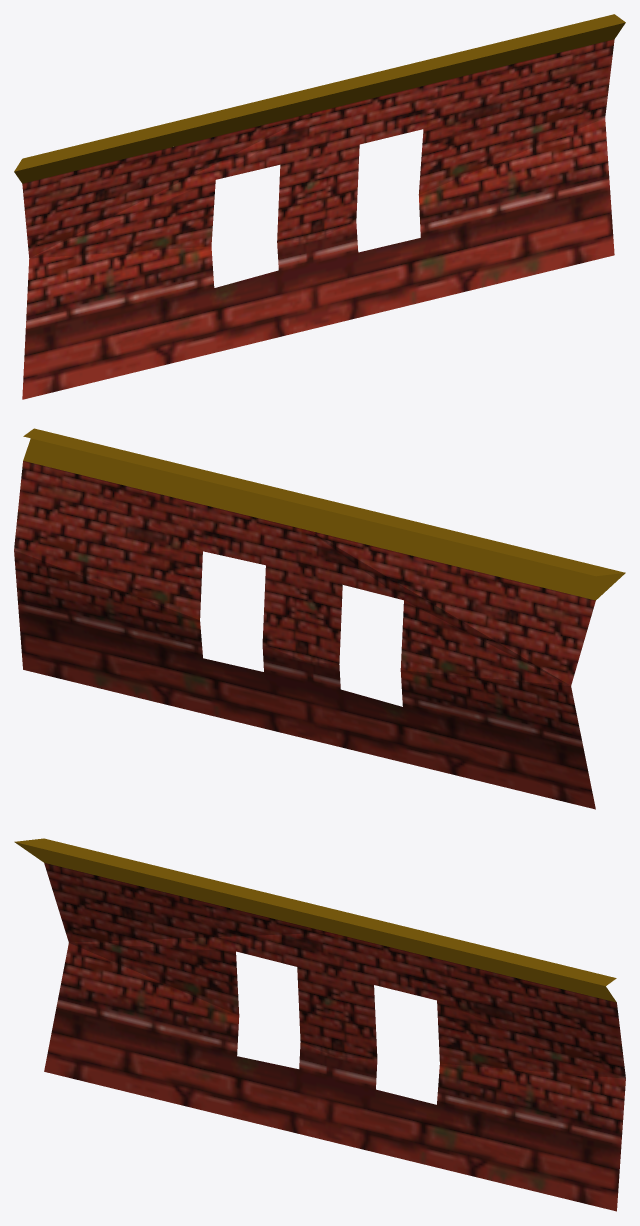
The model's file is W_A2l_xffx [Ziegel]_1827.glb.
The picture shows the model from 3 angles, top to bottom: view 1: azimuth 30°, elevation 25°; view 2: azimuth 150°, elevation 25°; view 3: azimuth 330°, elevation 25°; orthographic projection. The views are drawn at different scales.
Visible parts, largest first — view 1: polySurfaceShape871, polySurfaceShape1031; view 2: polySurfaceShape871, polySurfaceShape1031; view 3: polySurfaceShape871, polySurfaceShape1031.
Part boxes in pixels (x1=…): polySurfaceShape871: x1=22, y1=39, x2=614, y2=399; polySurfaceShape1031: x1=14, y1=14, x2=625, y2=183; polySurfaceShape871: x1=14, y1=461, x2=595, y2=809; polySurfaceShape1031: x1=23, y1=428, x2=625, y2=600; polySurfaceShape871: x1=44, y1=863, x2=625, y2=1211; polySurfaceShape1031: x1=14, y1=838, x2=616, y2=1002.
Bounding box in the file's own units: 1.03 × 0.3891 × 0.0607.
Materials: 2 (1 with a texture image).
